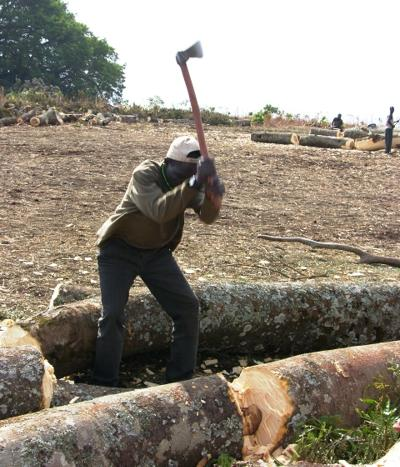person: (93, 135, 226, 388)
